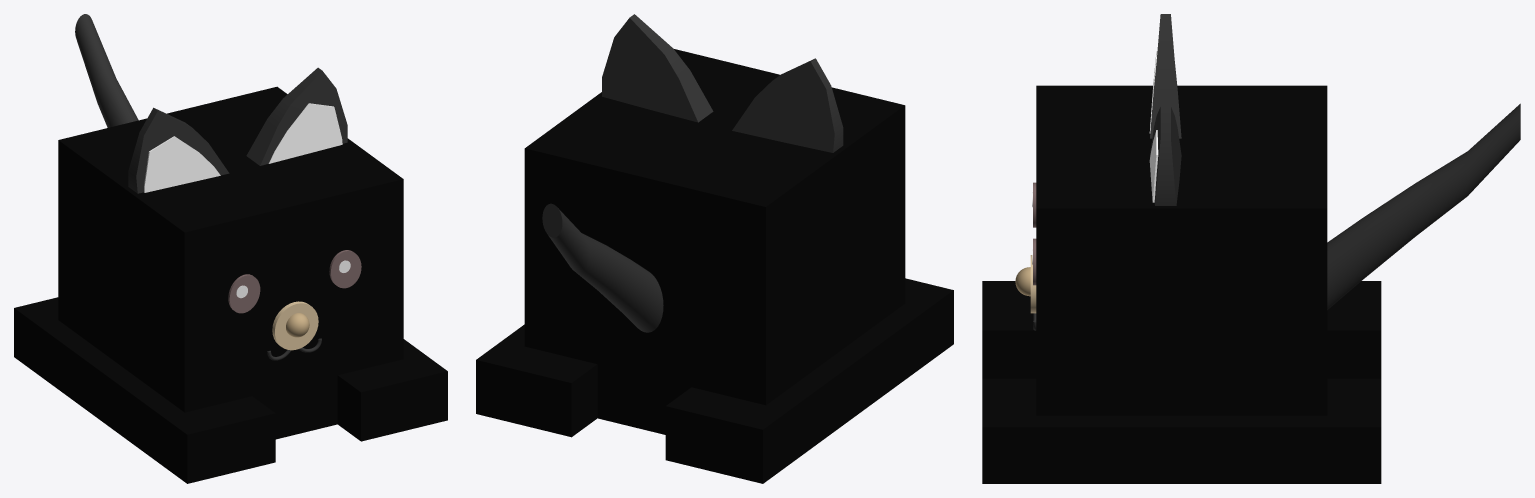
The model's file is black-dog.glb.
The picture shows the model from 3 angles, left to right: view 1: azimuth 30°, elevation 25°; view 2: azimuth 150°, elevation 25°; view 3: azimuth 270°, elevation 25°; orthographic projection. The views are drawn at different scales.
Parts seen in each view (by area): view 1: body_7, cube_9, cube_8, zhui_2, 圆柱_12, nose_14, nose_13; view 2: body_7, cube_9, zhui_2; view 3: body_7, zhui_2, cube_9.
Part boxes in pixels (<box>): body_7: <box>14,86,447,483</box>; cube_9: <box>128,67,347,193</box>; cube_8: <box>144,103,342,192</box>; zhui_2: <box>75,14,138,127</box>; 圆柱_12: <box>228,250,361,313</box>; nose_14: <box>272,301,318,350</box>; nose_13: <box>286,313,309,337</box>; body_7: <box>476,49,953,483</box>; cube_9: <box>602,14,843,152</box>; zhui_2: <box>542,203,663,332</box>; body_7: <box>982,85,1381,483</box>; zhui_2: <box>1327,103,1520,309</box>; cube_9: <box>1150,14,1181,205</box>.
Bounding box in the file's own units: 0.476 × 0.5319 × 0.7399.
